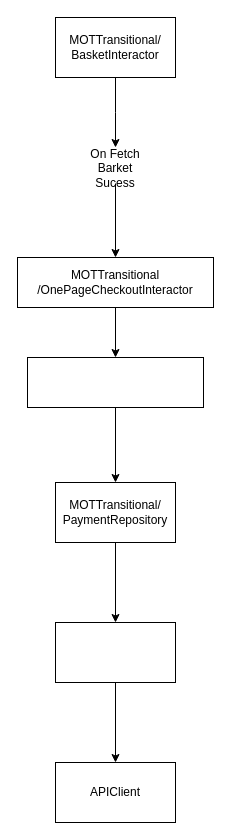
The diagram is 231 pixels wide and 840 high, and some of its shapes have lost their labels. Each missing label, with the centre of its shape:
"getPaymentMethod" belongs at (115,652).
"MOTTransitional /CheckoutPaymentInteractor" belongs at (115,382).
